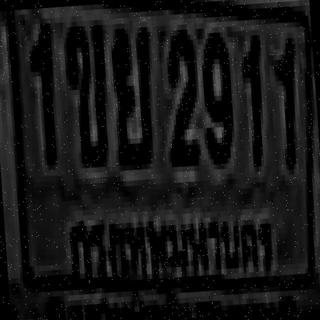A02: (62, 17, 109, 161)
A34: (107, 22, 154, 161)
N01: (27, 18, 57, 161), (239, 30, 266, 162), (272, 35, 300, 162)
N02: (162, 24, 198, 162)
N09: (197, 27, 233, 160)
P04: (66, 195, 278, 291)
